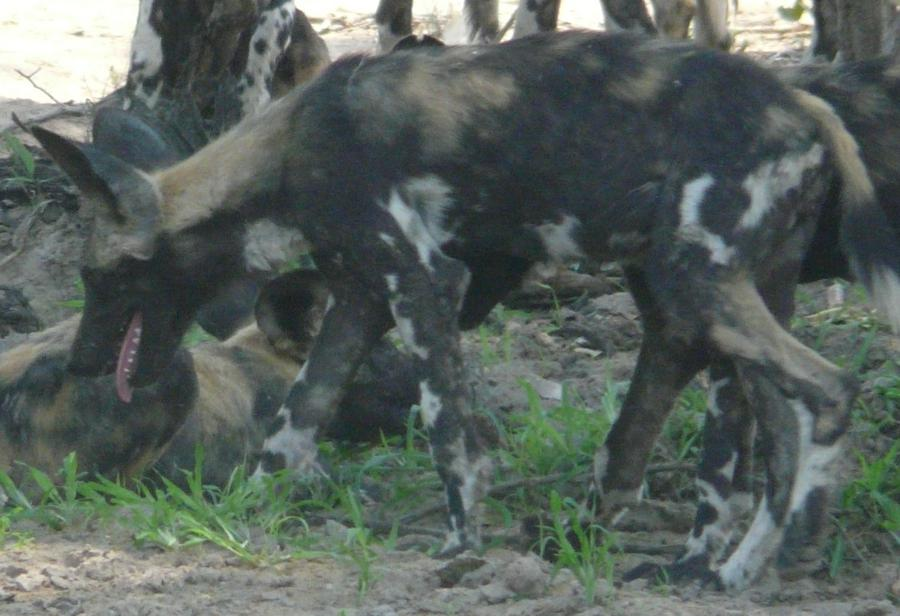wilddog: (1, 1, 900, 616)
